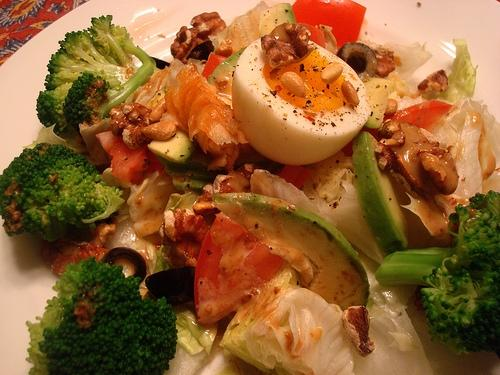avocado: (212, 193, 370, 312), (352, 132, 409, 255), (147, 126, 198, 164)
broccoli: (374, 190, 500, 358), (25, 257, 178, 375), (36, 15, 139, 135), (1, 142, 124, 242)
lettuce: (217, 265, 356, 375), (301, 150, 382, 265), (154, 244, 219, 356), (250, 169, 337, 228), (208, 0, 269, 56), (449, 112, 483, 200), (432, 38, 478, 103), (384, 42, 433, 80)
tomato: (194, 211, 284, 326), (292, 0, 366, 51), (95, 131, 165, 184), (391, 98, 452, 128), (274, 164, 313, 190), (201, 53, 228, 81)
